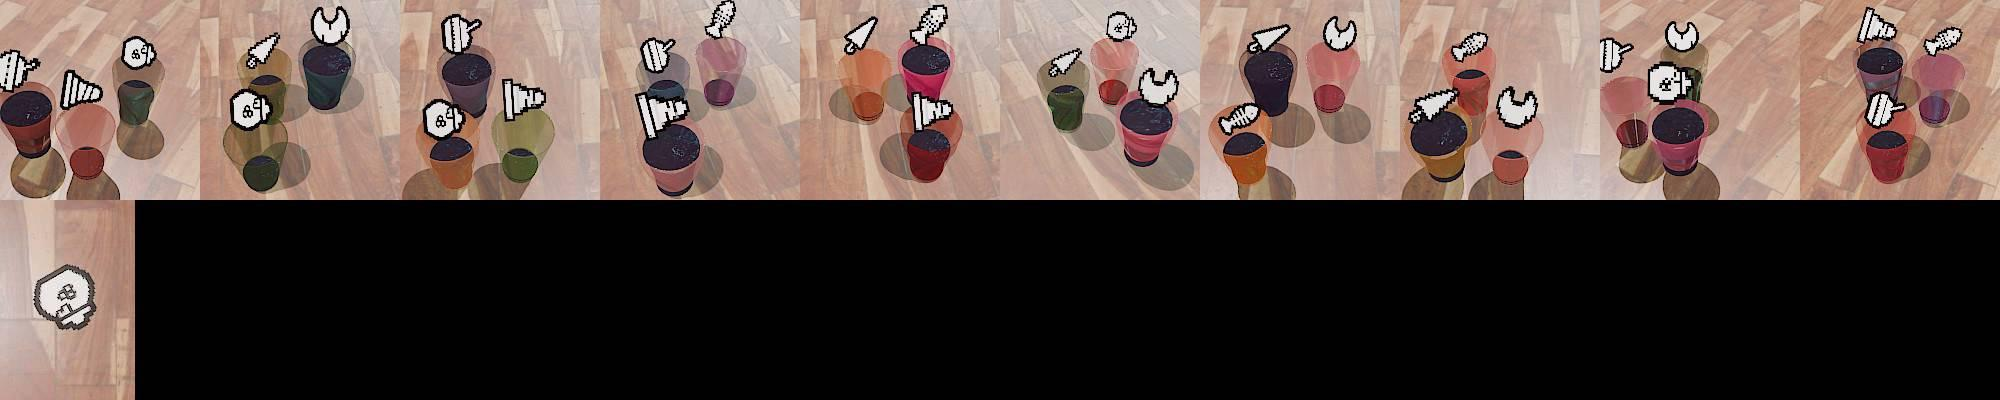icon: (32, 265, 98, 332), (634, 87, 690, 139), (501, 76, 547, 122), (1647, 61, 1695, 103), (1495, 84, 1540, 127), (422, 98, 467, 141), (909, 89, 955, 131), (59, 69, 103, 110), (1409, 87, 1458, 124), (1138, 65, 1180, 107), (230, 88, 272, 130), (0, 50, 41, 93), (441, 13, 482, 55), (310, 4, 349, 47), (1865, 89, 1907, 127), (1856, 6, 1898, 45), (1217, 101, 1263, 135), (911, 3, 949, 43), (1246, 23, 1291, 55), (843, 15, 879, 55), (639, 37, 676, 74), (245, 32, 281, 70), (704, 0, 737, 41), (1449, 29, 1489, 62), (1922, 24, 1963, 56), (1324, 15, 1358, 52), (1598, 37, 1633, 73), (121, 36, 157, 70), (1665, 19, 1699, 54), (1106, 10, 1136, 43), (1050, 47, 1083, 78)
